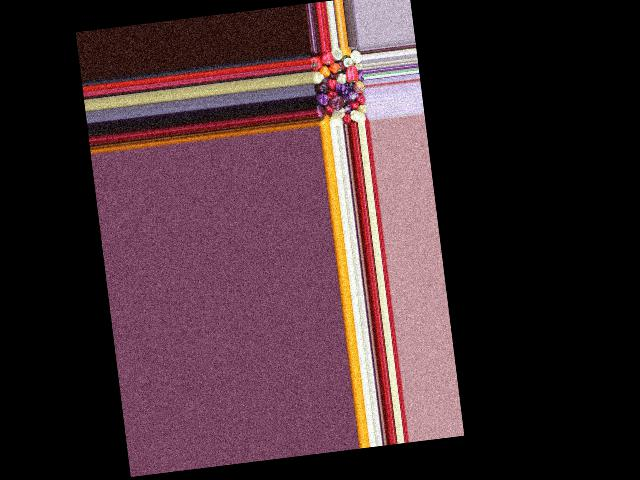bell_pepper: (331, 48, 342, 62)
